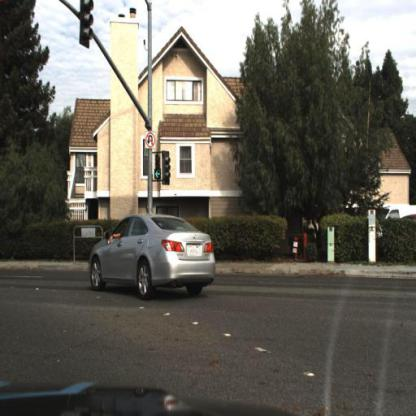car: (85, 207, 216, 301)
trafficLight-GreenLeft: (153, 165, 164, 187), (155, 153, 163, 182)
